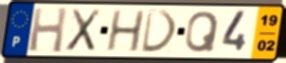4: (221, 8, 251, 56)
D: (140, 8, 180, 54)
H: (27, 6, 69, 54), (104, 9, 147, 54)
Q: (183, 9, 221, 54)
X: (63, 8, 103, 53)
